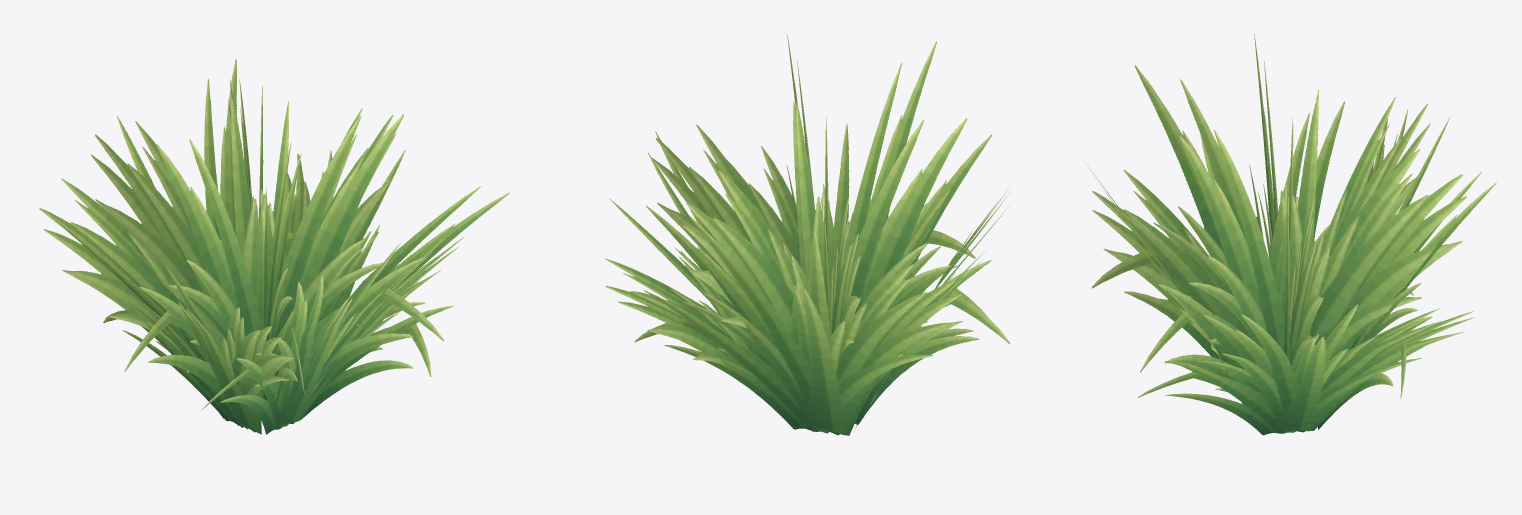
The model's file is grass_tuft.glb.
The picture shows the model from 3 angles, left to right: view 1: azimuth 30°, elevation 25°; view 2: azimuth 150°, elevation 25°; view 3: azimuth 270°, elevation 25°; orthographic projection. The views are drawn at different scales.
Visible parts, largest first — view 1: grass_tuft; view 2: grass_tuft; view 3: grass_tuft.
Part boxes in pixels (bbox=[...]): grass_tuft: bbox=[39, 59, 509, 434]; grass_tuft: bbox=[605, 34, 1010, 435]; grass_tuft: bbox=[1082, 33, 1496, 435].
Size of the model in its own units: 0.6655 by 0.5195 by 0.6007.
Materials: 1 (1 with a texture image).
